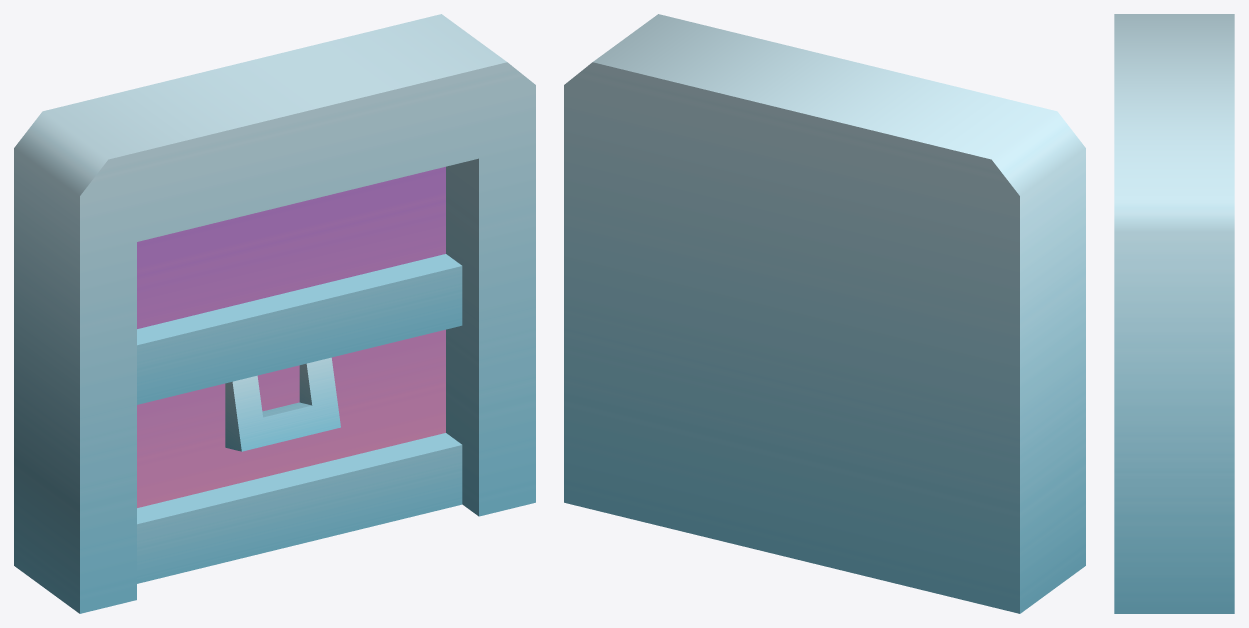
Rendered from gate.fbx.
3 views of the same model, side by side, from view 1: azimuth 30°, elevation 25°; view 2: azimuth 150°, elevation 25°; view 3: azimuth 270°, elevation 25° (orthographic). The views are drawn at different scales.
Visible parts, largest first — view 1: door; view 2: door; view 3: door.
Boxes of the visible parts, x1,y1,x2,y2 form: door: [14, 14, 535, 613]; door: [564, 14, 1085, 613]; door: [1114, 14, 1234, 613].
Size of the model in its own units: 80 by 75 by 20.
